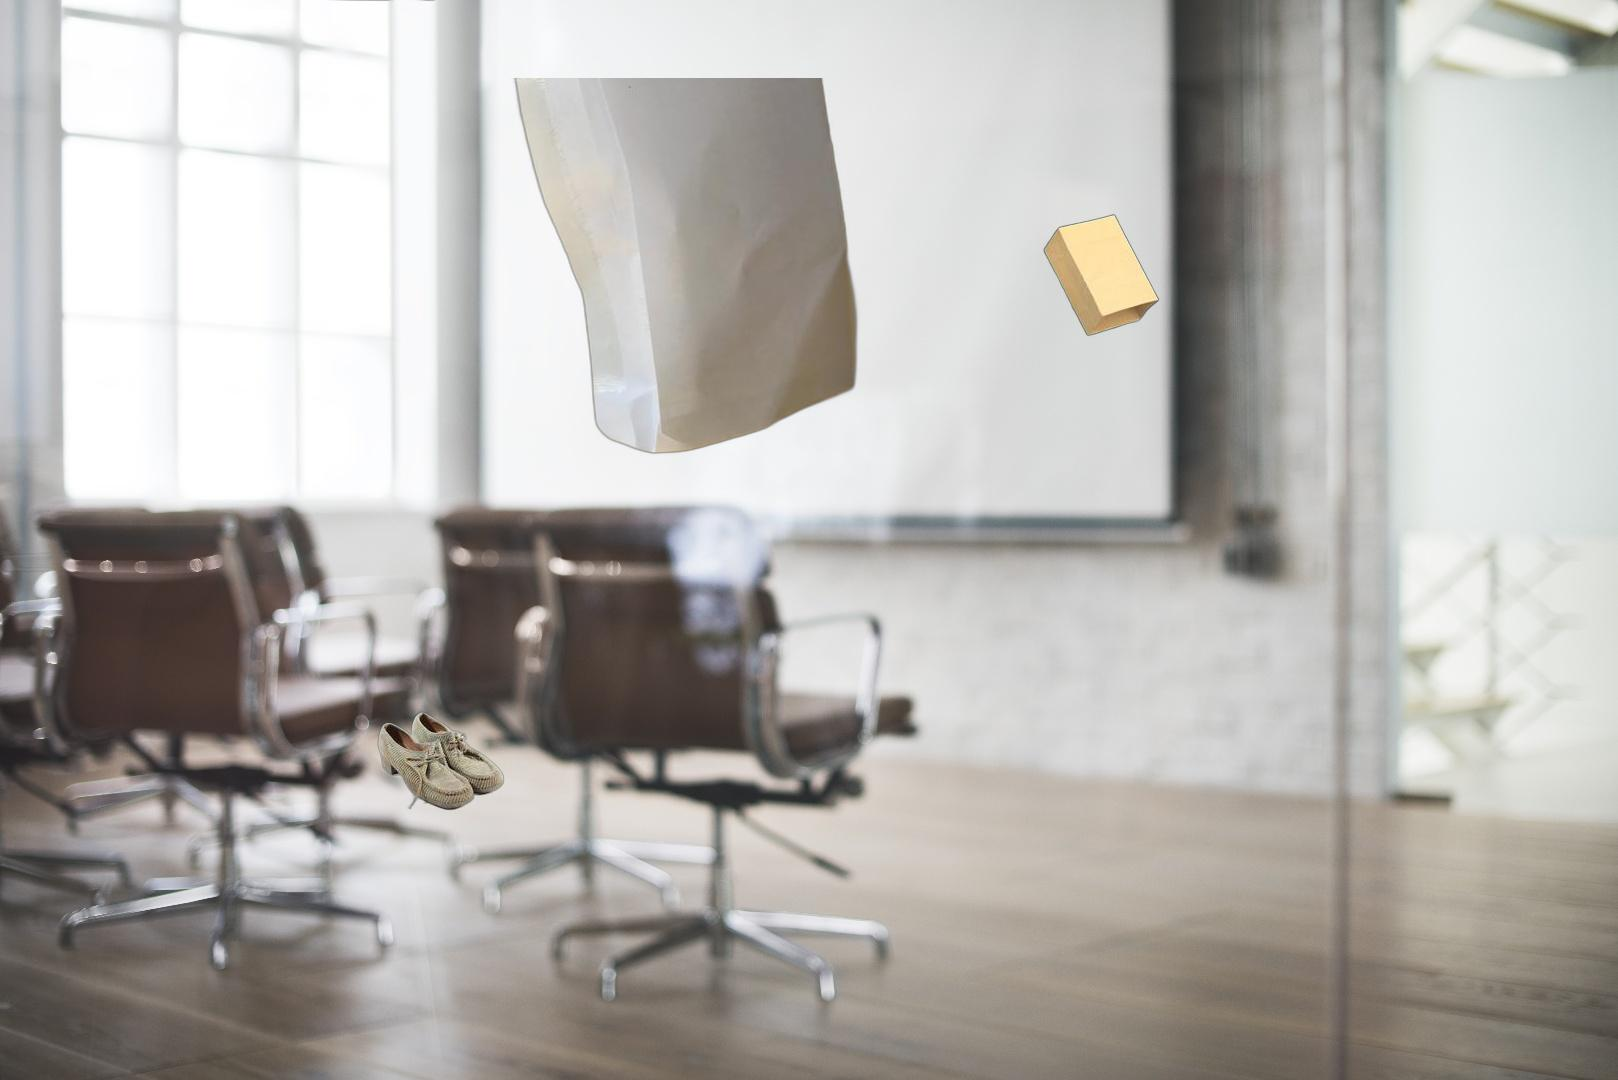paper: (508, 78, 861, 456)
paper-bag: (1043, 212, 1163, 339)
shoes: (375, 709, 506, 812)
